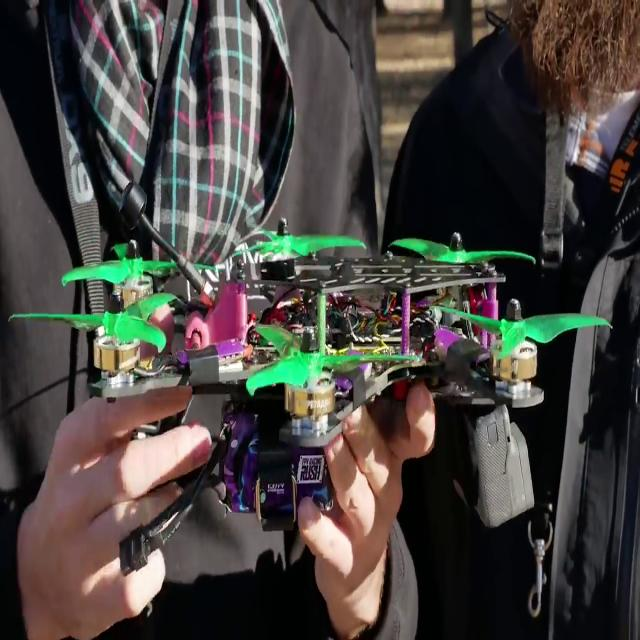drone: (43, 198, 614, 534)
